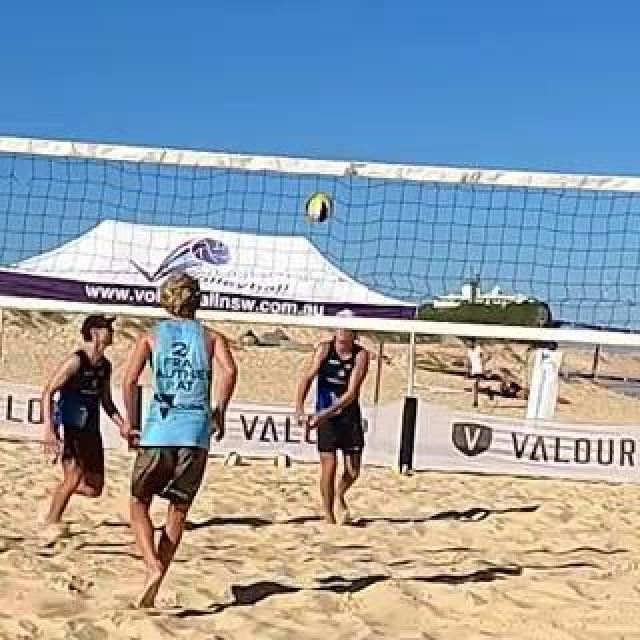volleyball: (307, 195, 333, 223), (223, 450, 243, 470), (391, 460, 411, 480), (273, 452, 291, 470)
